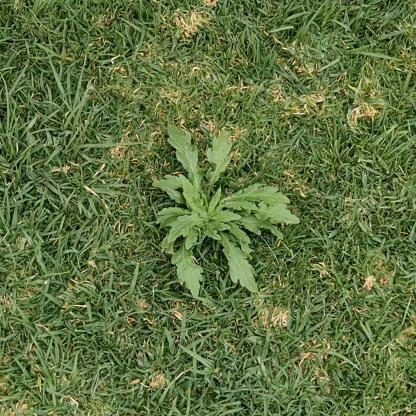Weeds: (155, 124, 302, 298)
